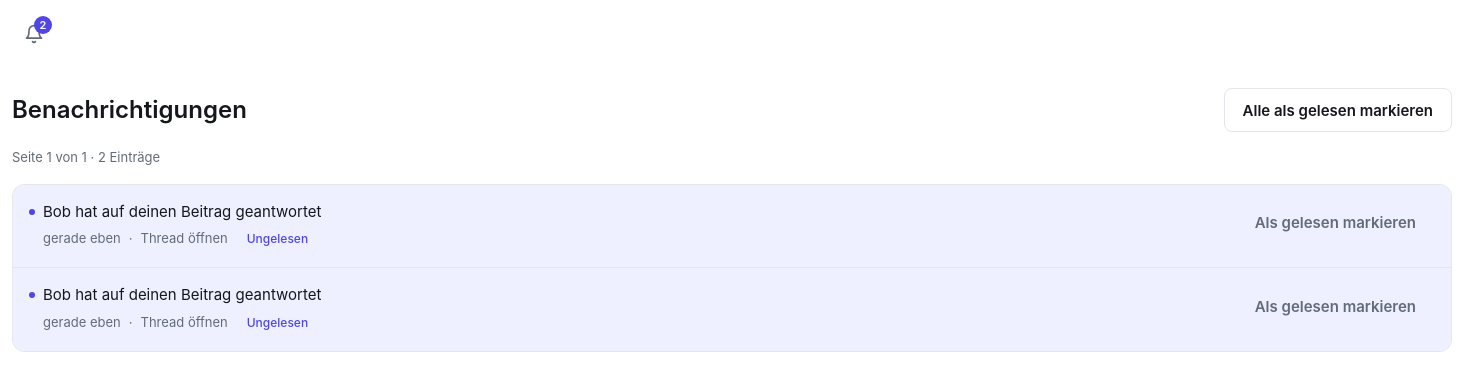
Test case: NotificationsPage › lowers the unread count when a single notification is marked read
Click the 1st button "Als gelesen markieren" at x=1335, y=222, box [1236,200,1435,244]
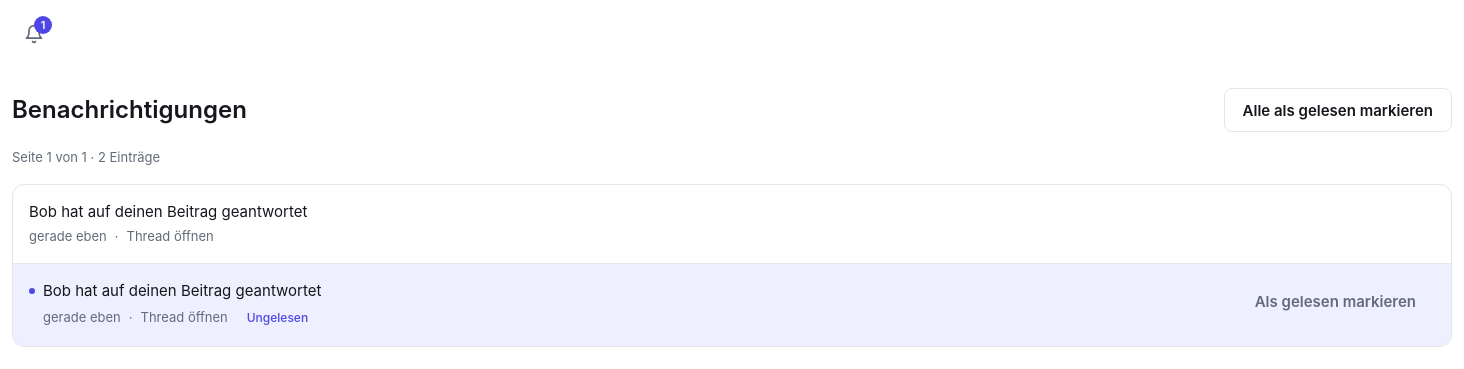
Check: the button named "Benachrichtigungen, 1 ungelesen" is shown, box [12,12,56,56]
Check: the text with test id "notification-badge" reads "1", box [41,18,45,32]
